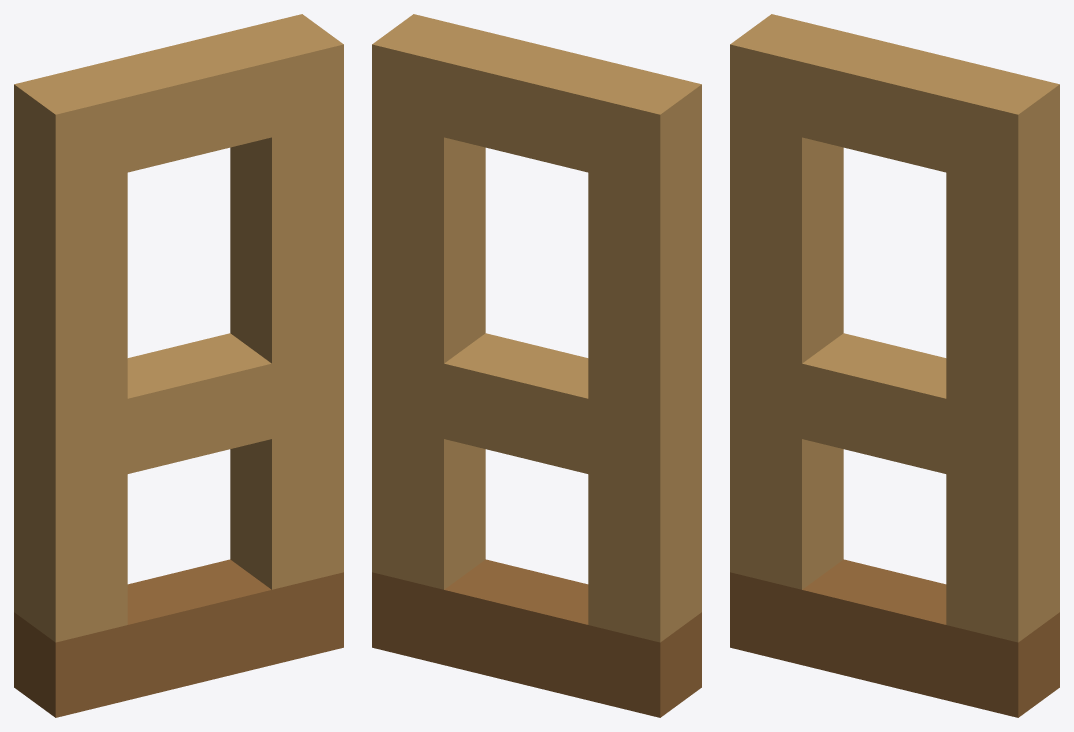
File: workshop.bridge.B.rail.palette.glb
The picture shows the model from 3 angles, left to right: view 1: azimuth 30°, elevation 25°; view 2: azimuth 150°, elevation 25°; view 3: azimuth 330°, elevation 25°; orthographic projection.
Parts seen in each view (by area): view 1: VW.top.rail.001, VW.sill.001, VW.crossbar.001, VW.stile.0.003, VW.stile.1.003, VW.stile.0.002, VW.stile.1.002; view 2: VW.top.rail.001, VW.sill.001, VW.crossbar.001, VW.stile.0.003, VW.stile.1.003, VW.stile.0.002, VW.stile.1.002; view 3: VW.top.rail.001, VW.sill.001, VW.crossbar.001, VW.stile.1.003, VW.stile.0.003, VW.stile.1.002, VW.stile.0.002.
Boxes of the visible parts, x1,y1,x2,y2 form: VW.top.rail.001: (14, 14, 343, 189); VW.sill.001: (14, 559, 343, 717); VW.crossbar.001: (14, 333, 343, 491); VW.stile.0.003: (14, 160, 127, 416); VW.stile.1.003: (230, 120, 343, 363); VW.stile.0.002: (14, 461, 127, 642); VW.stile.1.002: (230, 421, 343, 589); VW.top.rail.001: (372, 14, 701, 189); VW.sill.001: (372, 559, 701, 717); VW.crossbar.001: (372, 333, 701, 491); VW.stile.0.003: (588, 160, 701, 416); VW.stile.1.003: (372, 120, 485, 363); VW.stile.0.002: (588, 461, 701, 642); VW.stile.1.002: (372, 421, 485, 589); VW.top.rail.001: (730, 14, 1059, 189); VW.sill.001: (730, 559, 1059, 717); VW.crossbar.001: (730, 333, 1059, 491); VW.stile.1.003: (946, 160, 1059, 416); VW.stile.0.003: (730, 120, 843, 363); VW.stile.1.002: (946, 461, 1059, 642); VW.stile.0.002: (730, 421, 843, 589).
Size of the model in its own units: 0.5 by 1 by 0.125.
2 materials, 2 textured.
